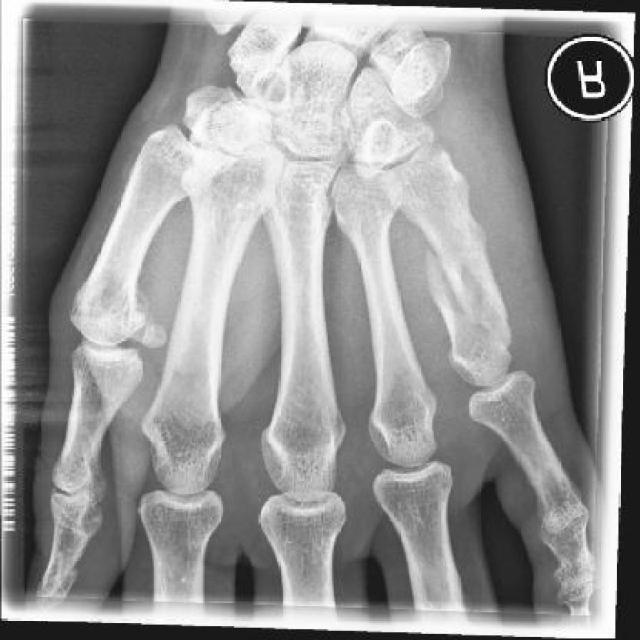Fracture: (425, 209, 522, 357)
